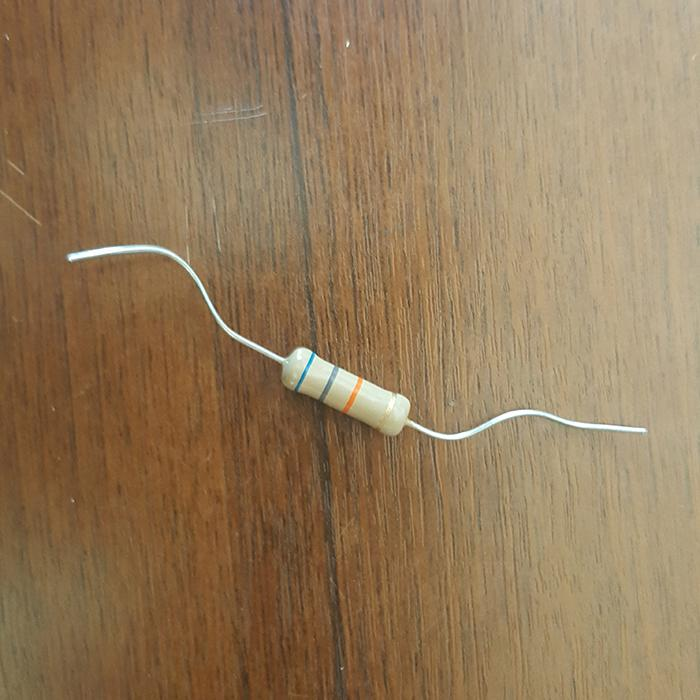resistor: (280, 345, 411, 435)
